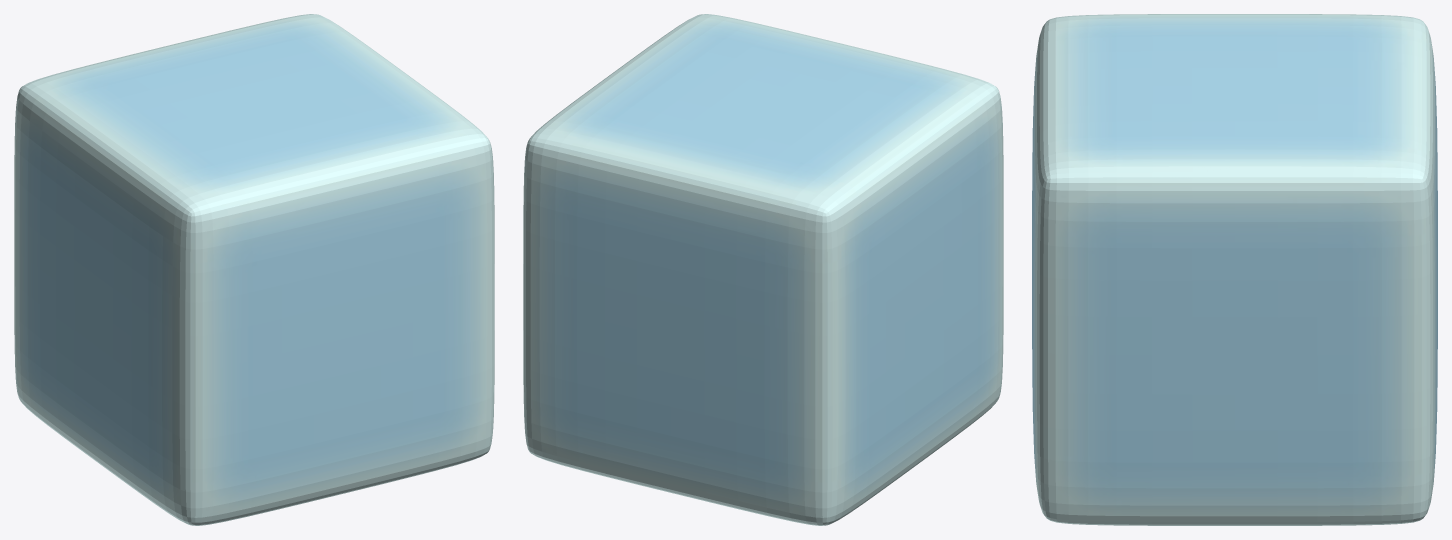
Rendered from tempano-basico-animacion-v2.fbx.
The picture shows the model from 3 angles, left to right: view 1: azimuth 30°, elevation 25°; view 2: azimuth 150°, elevation 25°; view 3: azimuth 270°, elevation 25°; orthographic projection. The views are drawn at different scales.
Visible parts, largest first — view 1: Tempano basico; view 2: Tempano basico; view 3: Tempano basico.
Boxes of the visible parts, box(x1,y1,x2,y2) form: Tempano basico: box(14, 14, 494, 525); Tempano basico: box(523, 14, 1003, 525); Tempano basico: box(1032, 14, 1437, 525).
Size of the model in its own units: 70 by 70 by 70.
